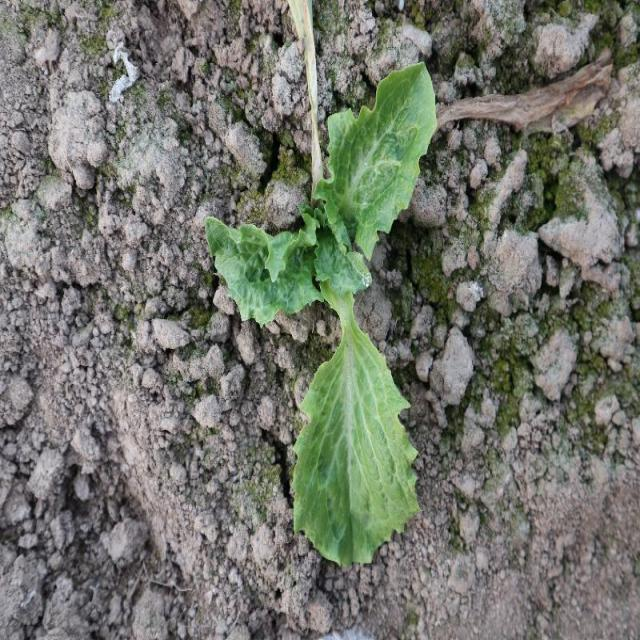crop: (208, 64, 434, 568)
